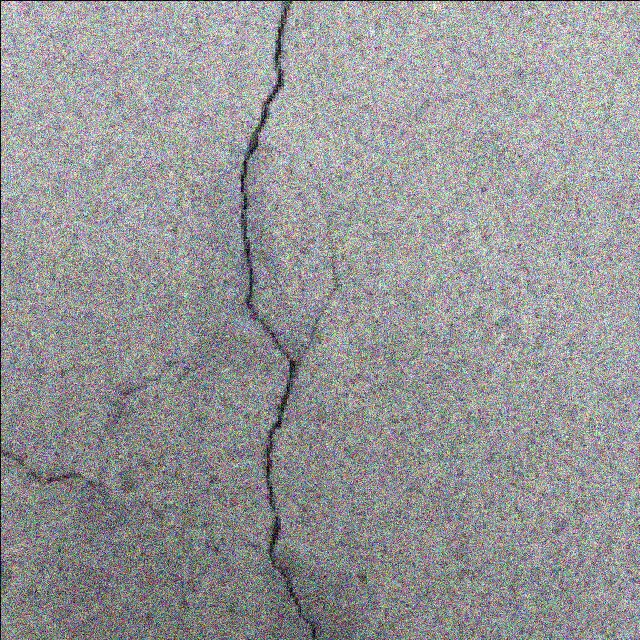SurfaceCrack: (218, 0, 358, 640)
